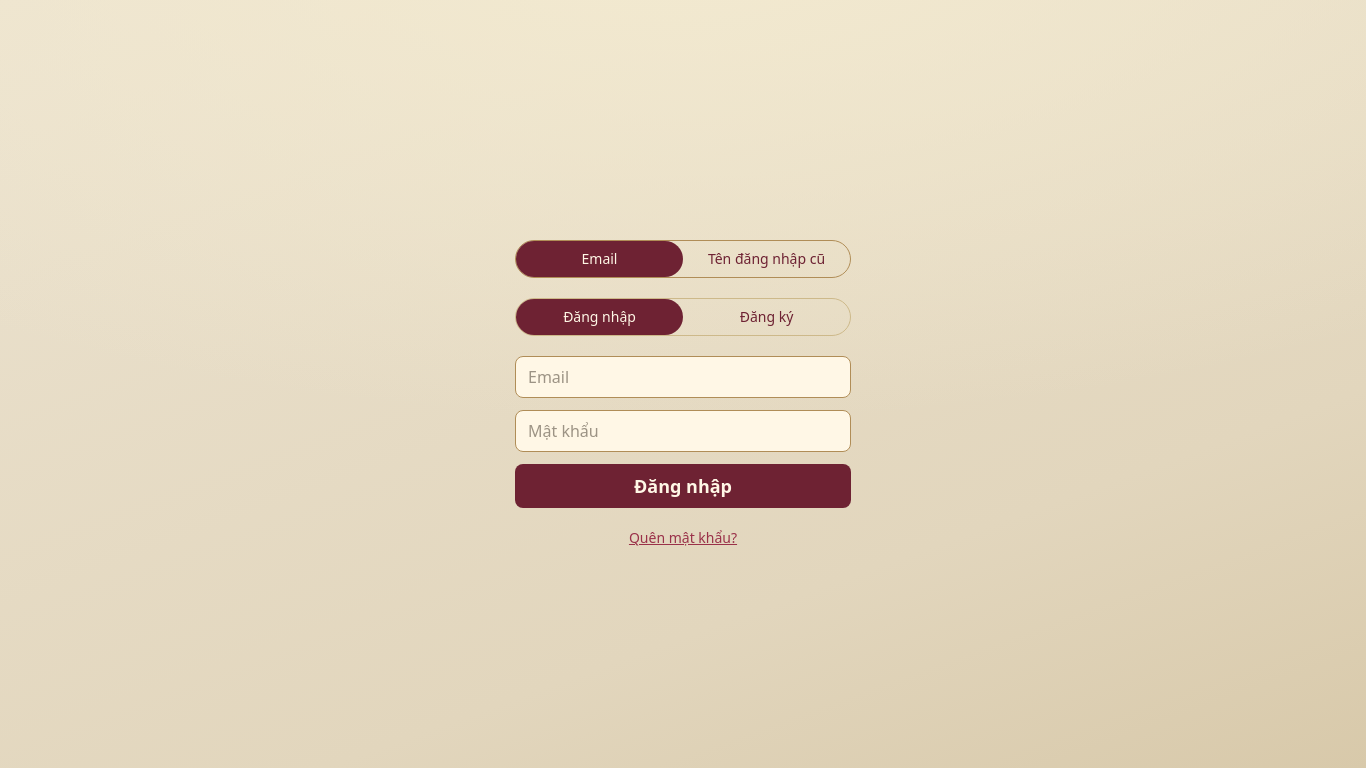
Test: AuthScreen — the Email tab (0112) › signs up with email, password and the in-game name, then says to check the mail
The image size is (1366, 768).
Click the button "Đăng ký": x=766, y=317 [683,299,850,335]
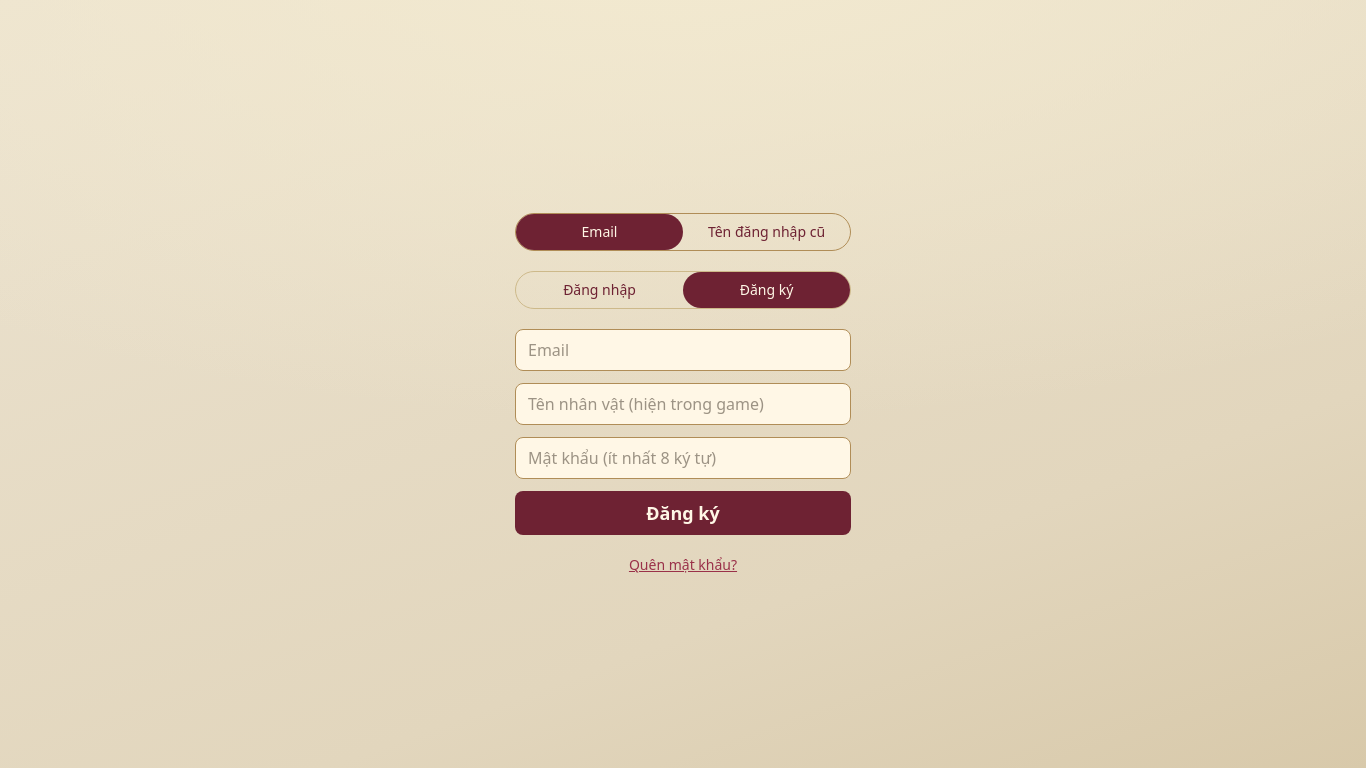
In the field with placeholder "Email": x=683, y=350 [515,329,851,371], type "dat@mail.vn"
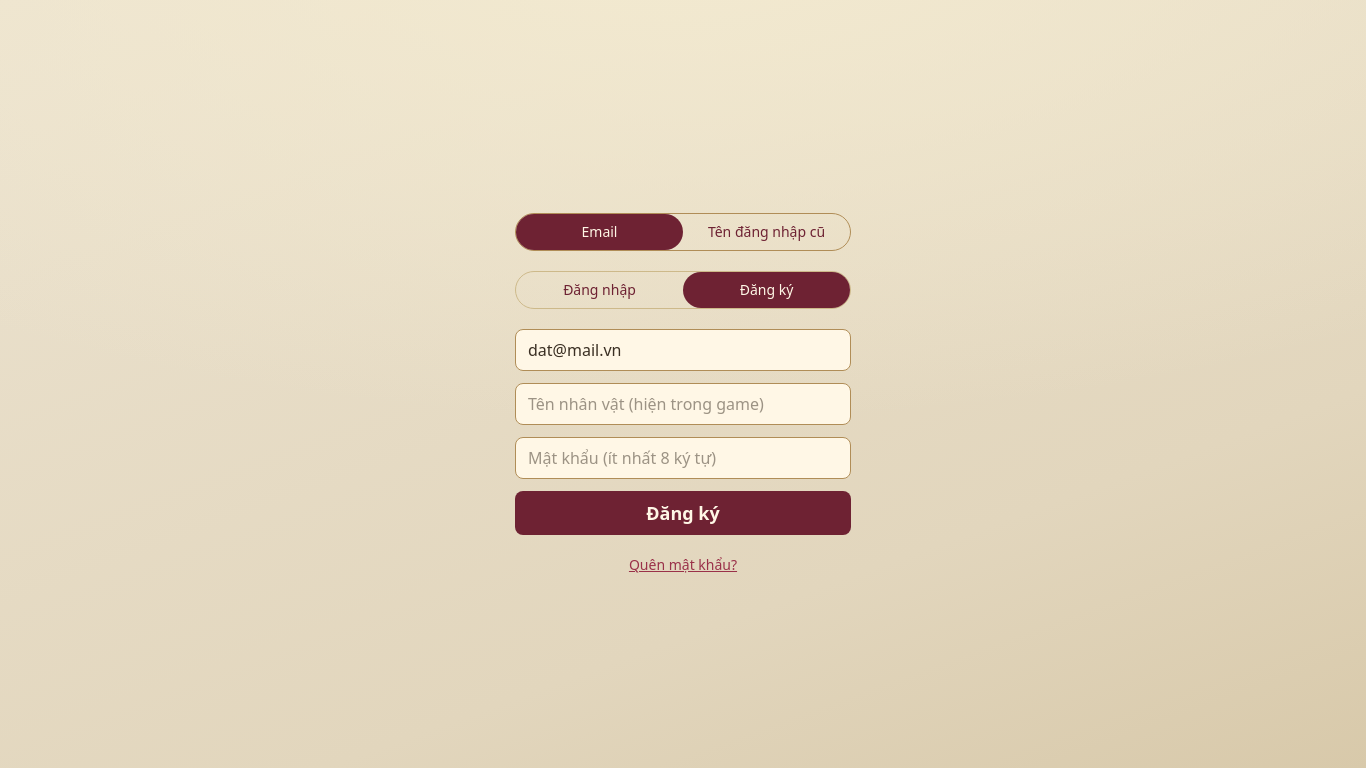
In the field with placeholder "Tên nhân vật (hiện trong game)": x=683, y=404 [515,383,851,425], type "Dat"
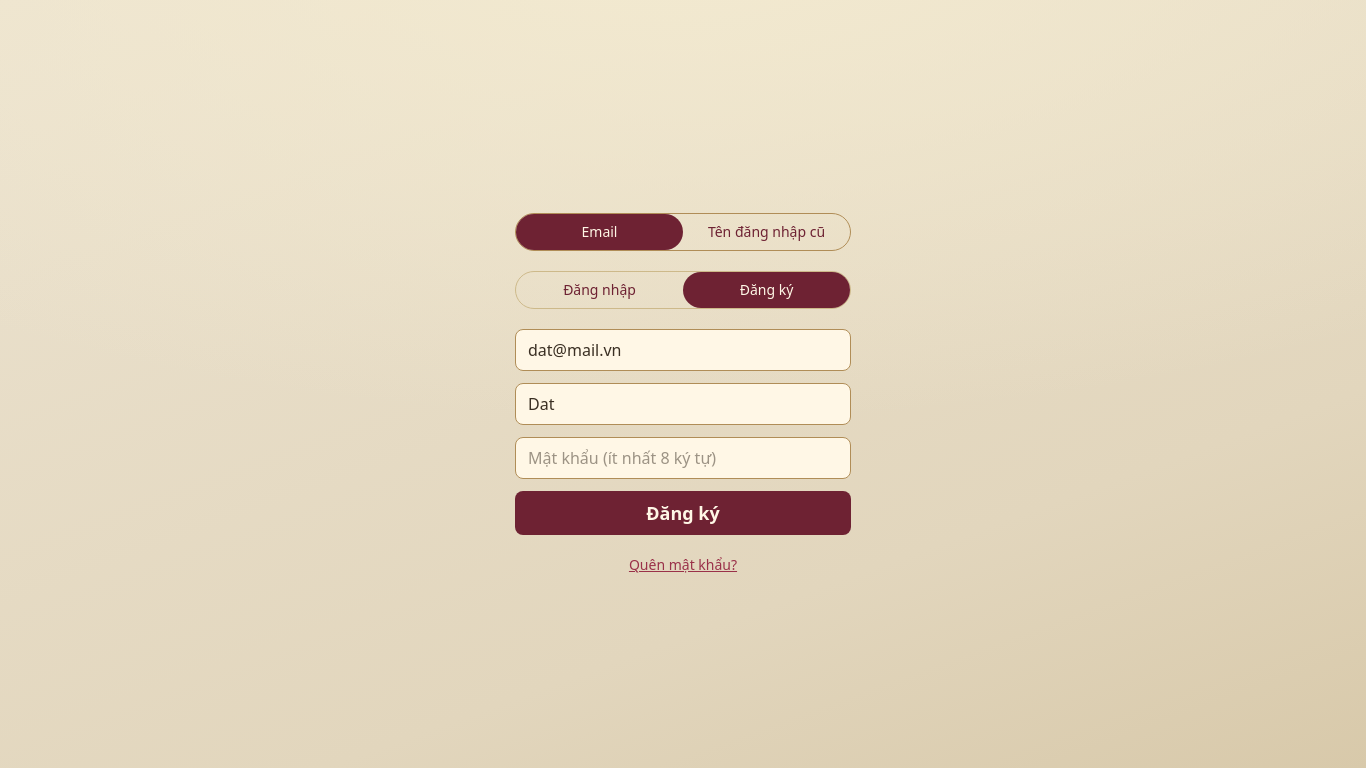
In the password field with placeholder "Mật khẩu (ít nhất 8 ký tự)": x=683, y=458 [515,437,851,479], type "mat-khau-dai"
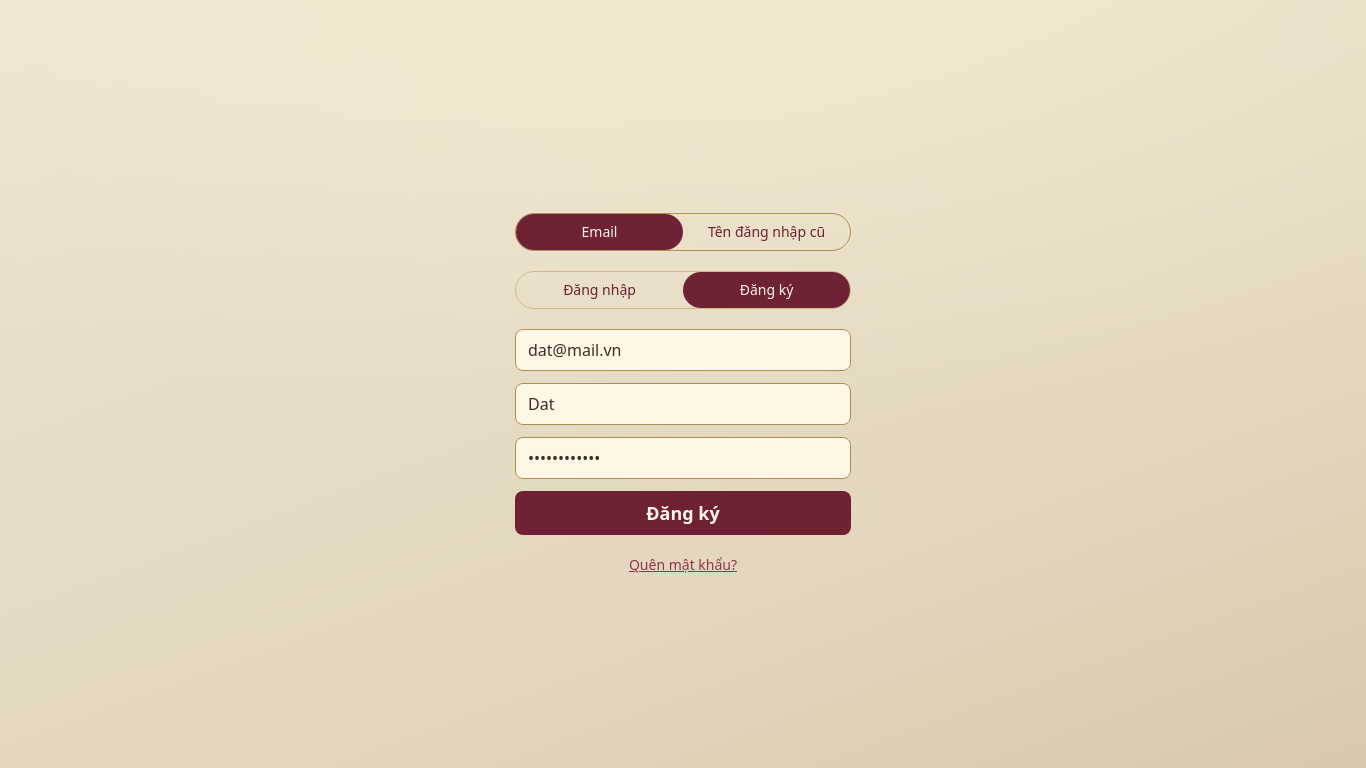
Submit the form with placeholder "Email", box [515,329,851,535]
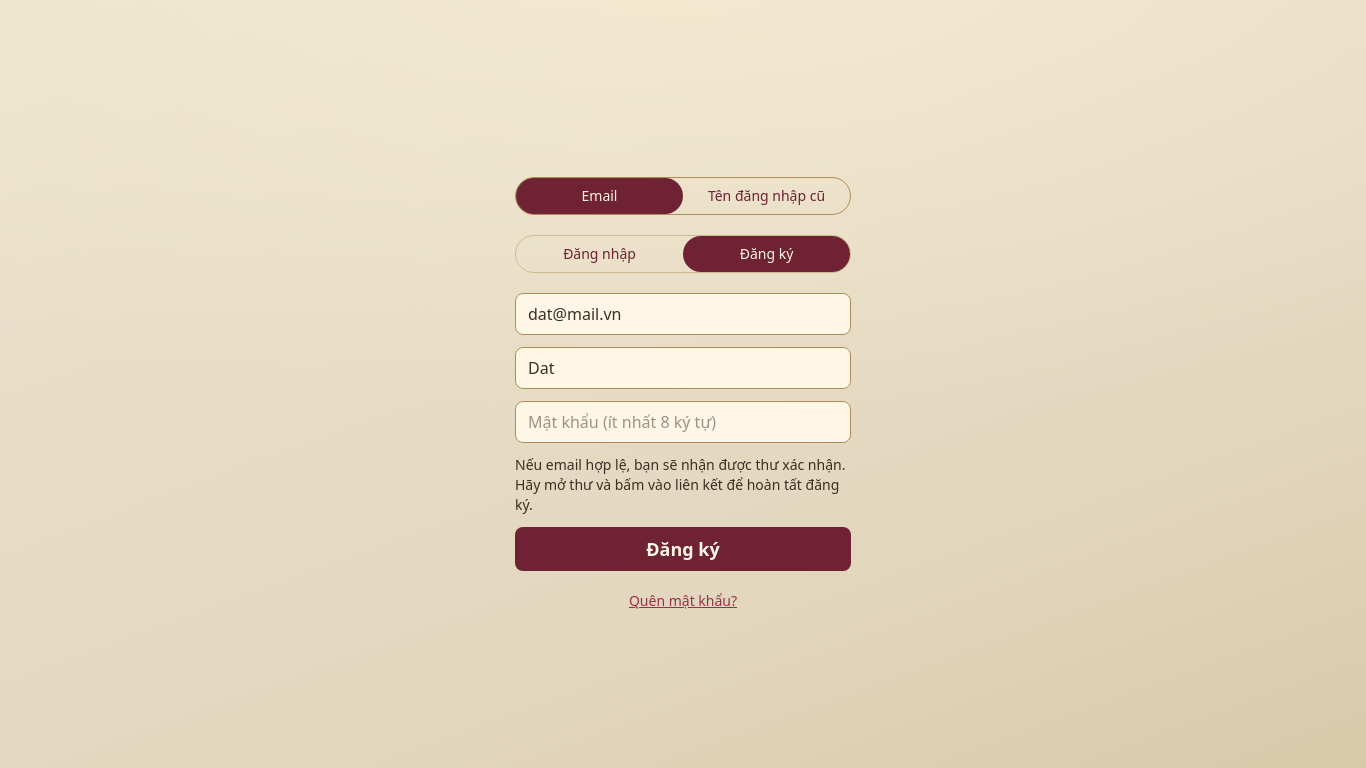
Result: the message shows "Nếu email hợp lệ, bạn sẽ nhận được thư xác nhận. Hãy mở thư và bấm vào liên kết để hoàn tất đăng ký." at [515,455,845,514]
